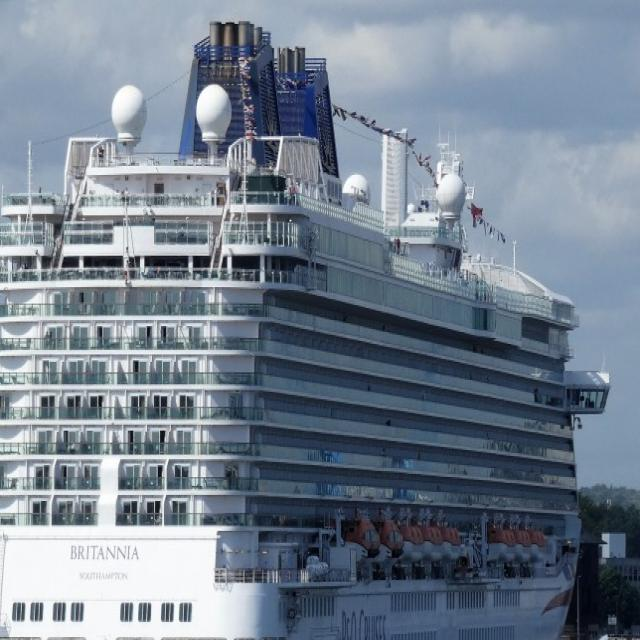cruises: (1, 20, 616, 640)
